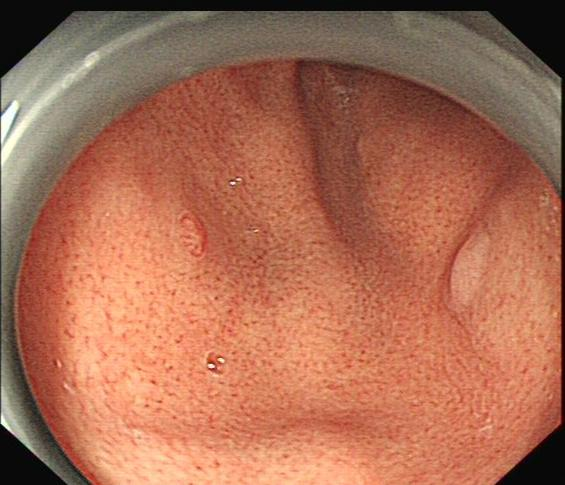Polyp: (439, 224, 501, 315), (164, 207, 218, 264)
